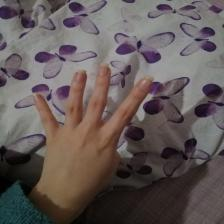four: (32, 63, 161, 196)
